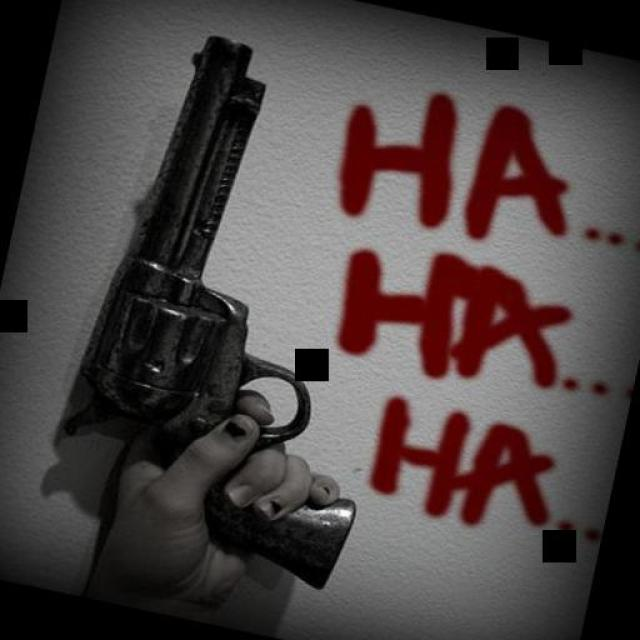gun: (40, 19, 445, 591)
